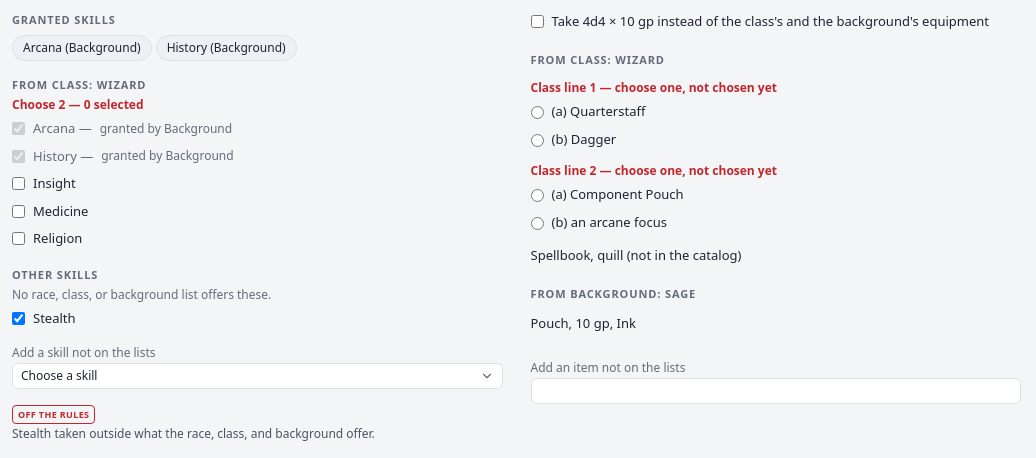
Test case: ProficienciesStep › notes a skill no list offers, which stays listed so it can be cleared
The image size is (1036, 458).
Expected: the element "Other skills" is shown, left=12, top=266, right=502, bottom=388
Click the checkbox labelled "Stealth": (18, 319) left=12, top=312, right=25, bottom=325
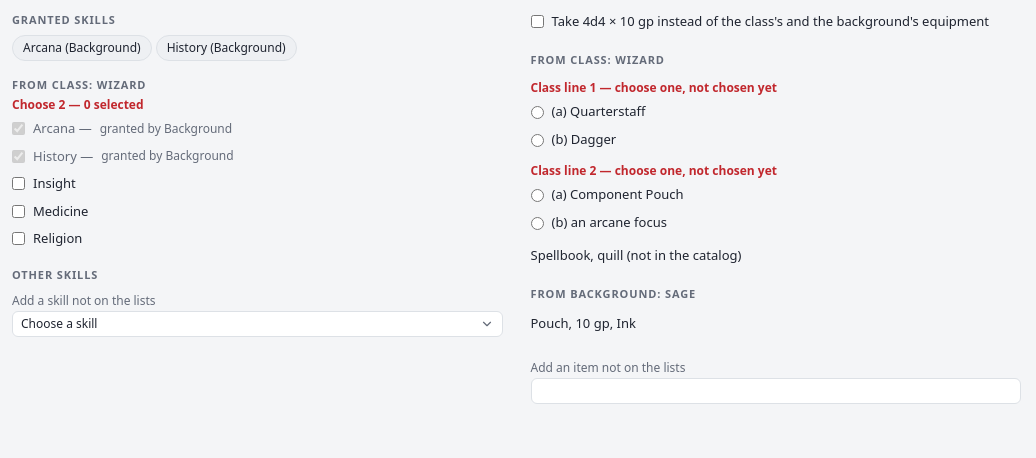
Expected: the label "Stealth" is gone
